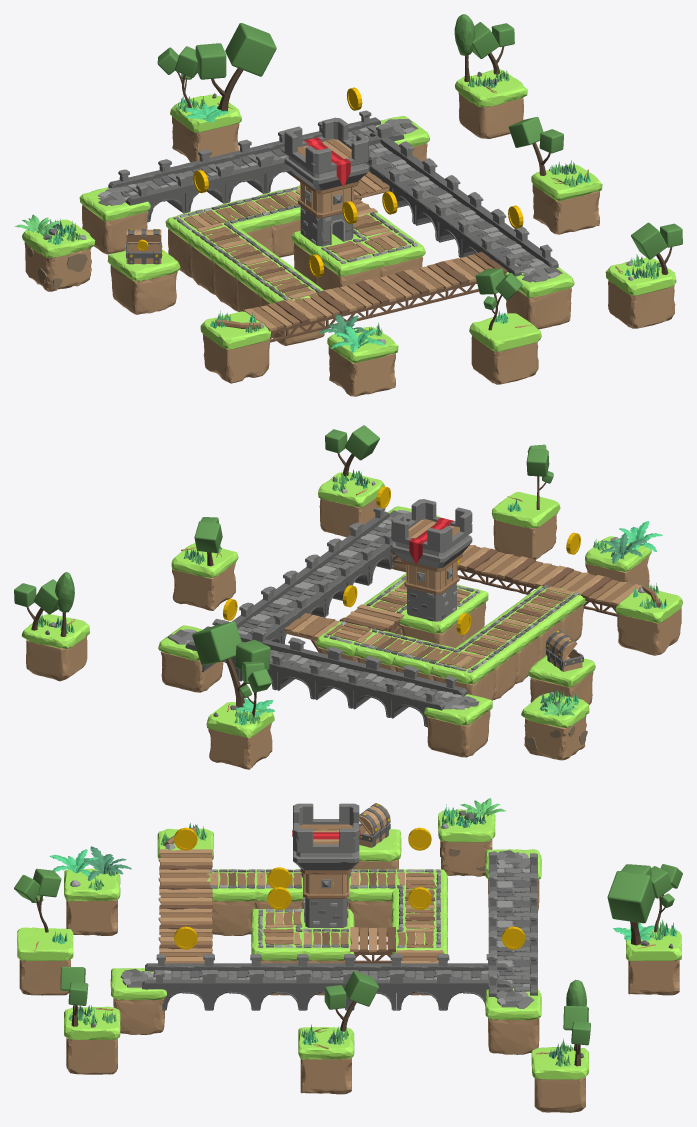
The picture shows the model from 3 angles, top to bottom: view 1: azimuth 30°, elevation 25°; view 2: azimuth 150°, elevation 25°; view 3: azimuth 270°, elevation 25°; orthographic projection. The views are drawn at different scales.
Visible parts, largest first — view 1: TowerV1, TreeV3_004, Tile_Bot_Part_21, Tile_Bot_Part_19, Tile_Bot_Part_22, Tile_Bot_Part_23, Tile_Bot_Part_18, Tile_Bot_Part_15, Bridge_002_5, Bridge_002_3, Tile_Bot_Part_20, Tile_Bot_Part_6 (+64 smaller); view 2: TowerV1, TreeV3_004, Bridge_002_5, Tile_Bot_Part_18, Tile_Bot_Part_1, Tile_Bot_Part_19, Tile_Bot_Part_16, Bridge_002_3, Tile_Bot_Part_22, Tile_Bot_Part_20, Bridge_002_4, Bridge_002_2 (+64 smaller); view 3: TowerV1, TreeV3_004, Bridge_002_12, Bridge_002_6, Bridge_002_10, Bridge_002_11, Bridge_002_7, Tile_Bot_Part_19, Tile_Bot_Part_23, Tile_Bot_Part_16, Tile_Top_Part_22, Tile_Bot_Part_21 (+58 smaller).
Part boxes in pixels (<box>): TowerV1: <box>284,117,369,246</box>; TreeV3_004: <box>195,23,276,110</box>; Tile_Bot_Part_21: <box>328,346,395,396</box>; Tile_Bot_Part_19: <box>532,184,599,234</box>; Tile_Bot_Part_22: <box>471,336,538,384</box>; Tile_Bot_Part_23: <box>608,280,675,328</box>; Tile_Bot_Part_18: <box>202,334,270,383</box>; Tile_Bot_Part_15: <box>110,265,177,314</box>; Bridge_002_5: <box>108,159,193,222</box>; Bridge_002_3: <box>190,139,273,202</box>; Tile_Bot_Part_20: <box>458,93,523,138</box>; Tile_Bot_Part_6: <box>506,287,571,329</box>; TowerV1: <box>391,499,472,621</box>; TreeV3_004: <box>192,621,270,707</box>; Bridge_002_5: <box>377,665,467,727</box>; Tile_Bot_Part_18: <box>617,608,681,655</box>; Tile_Bot_Part_1: <box>426,710,490,757</box>; Tile_Bot_Part_19: <box>172,562,235,610</box>; Tile_Bot_Part_16: <box>208,723,272,769</box>; Bridge_002_3: <box>300,646,388,708</box>; Tile_Bot_Part_22: <box>493,514,556,559</box>; Tile_Bot_Part_20: <box>26,635,87,681</box>; Bridge_002_4: <box>339,656,426,717</box>; Bridge_002_2: <box>269,637,350,699</box>; TowerV1: <box>293,803,359,927</box>; TreeV3_004: <box>607,864,655,945</box>; Bridge_002_12: <box>142,954,225,1010</box>; Bridge_002_6: <box>423,954,510,1010</box>; Bridge_002_10: <box>235,954,318,1010</box>; Bridge_002_11: <box>188,954,272,1010</box>; Bridge_002_7: <box>377,954,459,1010</box>; Tile_Bot_Part_19: <box>300,1058,351,1094</box>; Tile_Bot_Part_23: <box>66,1037,117,1074</box>; Tile_Bot_Part_16: <box>628,960,679,995</box>; Tile_Top_Part_22: <box>17,927,73,960</box>; Tile_Bot_Part_21: <box>66,900,117,935</box>.
Size of the model in its own units: 13.58 by 3.5 by 14.29.
1 material, 1 textured.
